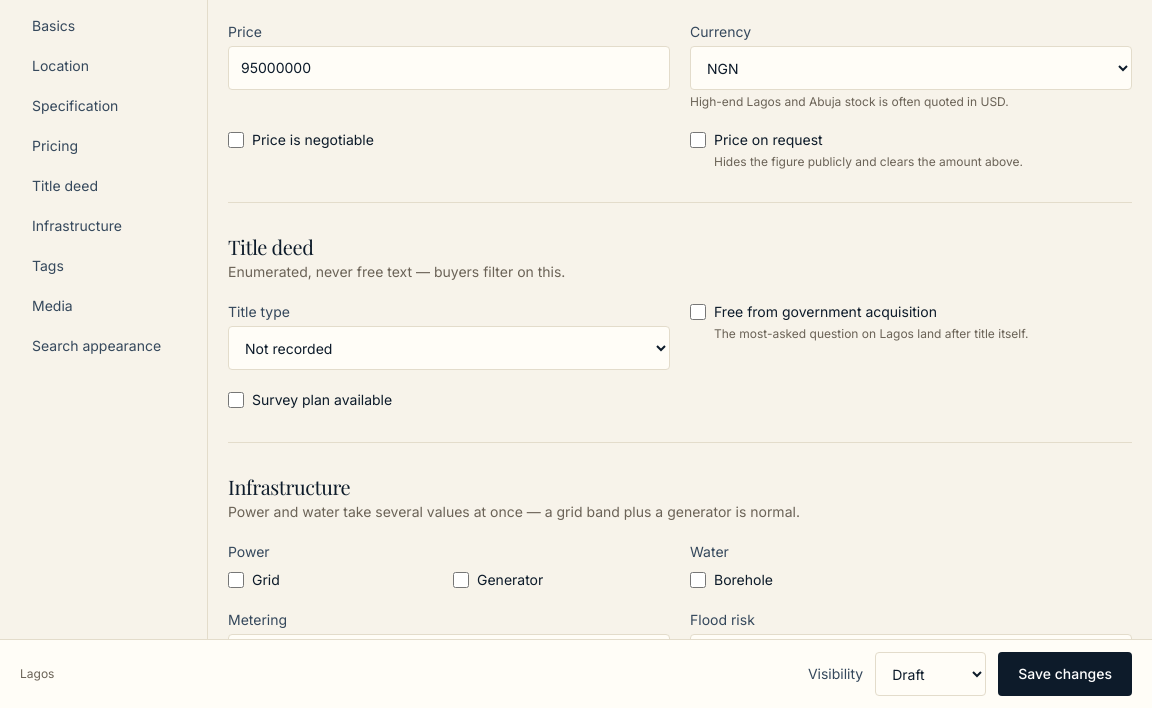
PropertyForm › asks for a gazette number only once an excision title is chosen
The width and height of the screenshot is (1152, 708).
(page scrolled)
Check: the field labelled "Gazette number" is not shown
Select "Excision" in the dropdown labelled "Title type" at (449, 348), box x1=228 y1=326 x2=670 y2=370
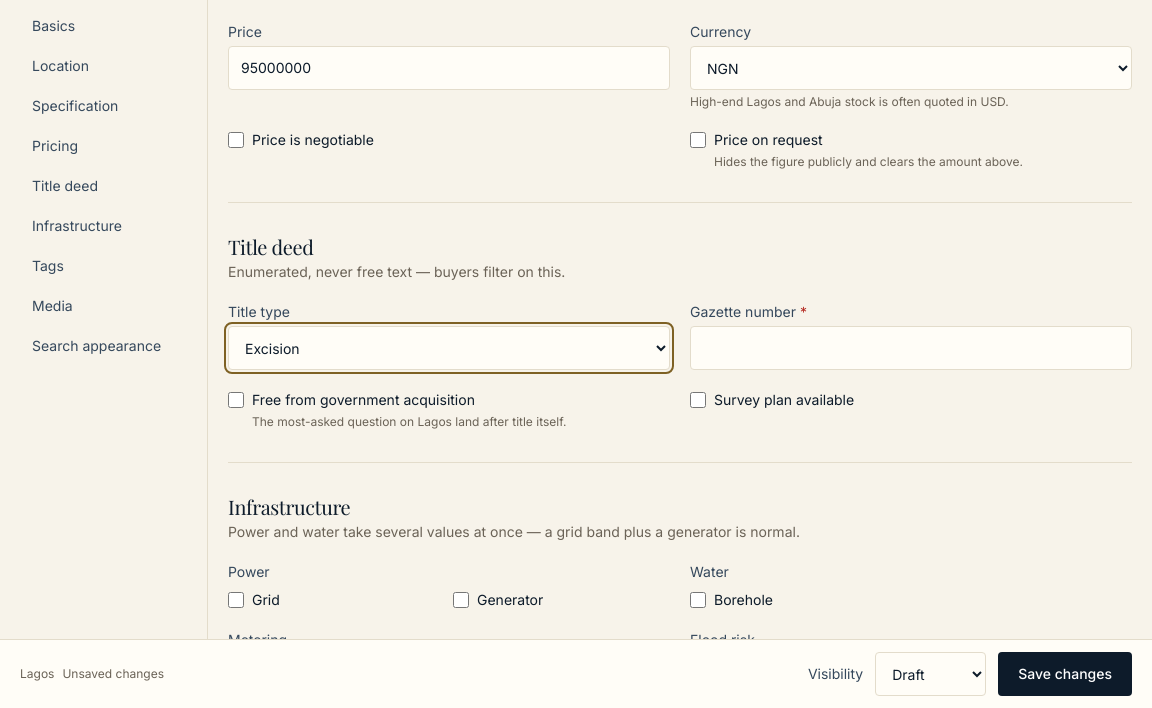
Check: the field labelled "Gazette number *" is shown, box x1=690 y1=326 x2=1132 y2=370
